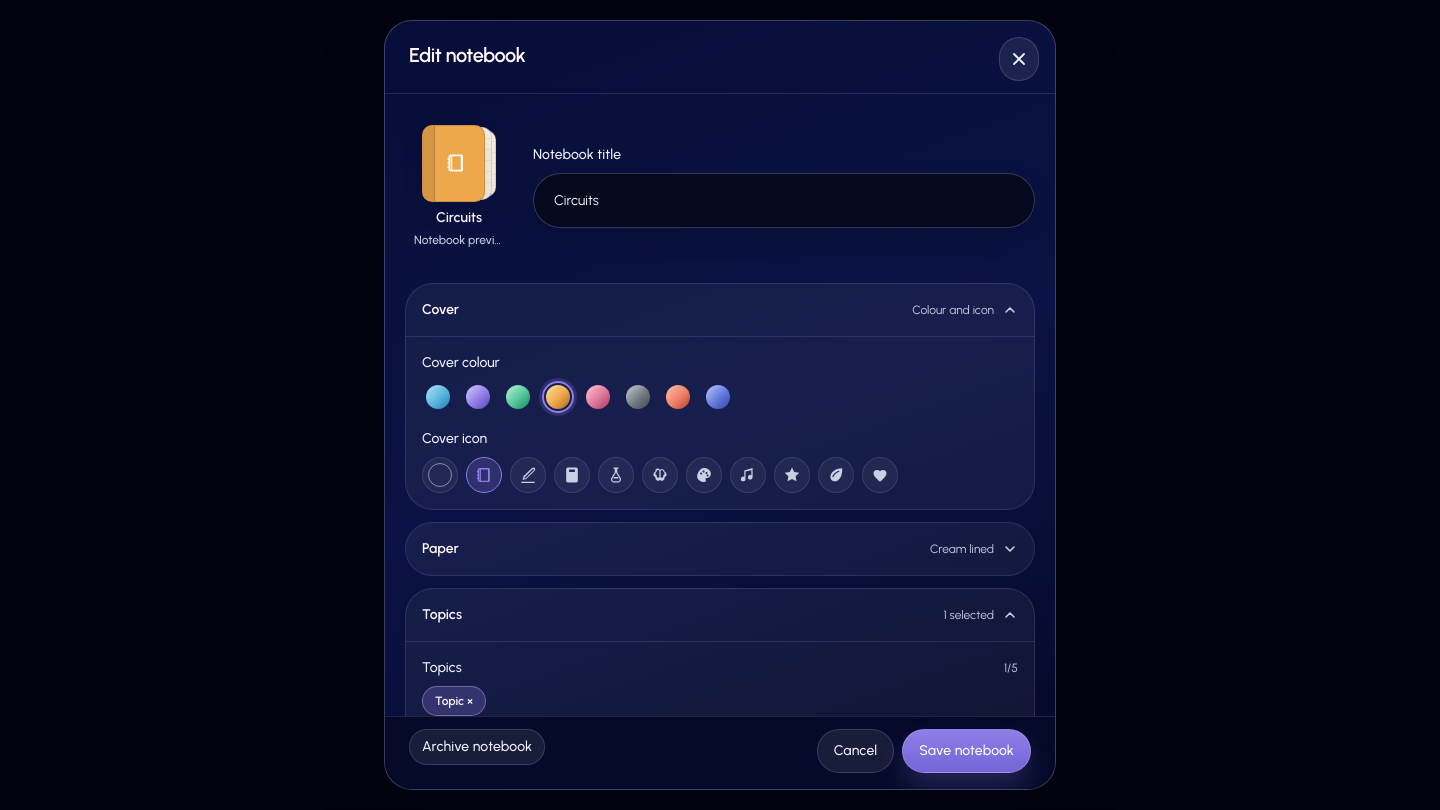
NotebookEditorDialog saving › shows why a save failed and stays open to retry
Click the button "Save notebook" at (967, 751), box [902, 729, 1031, 773]
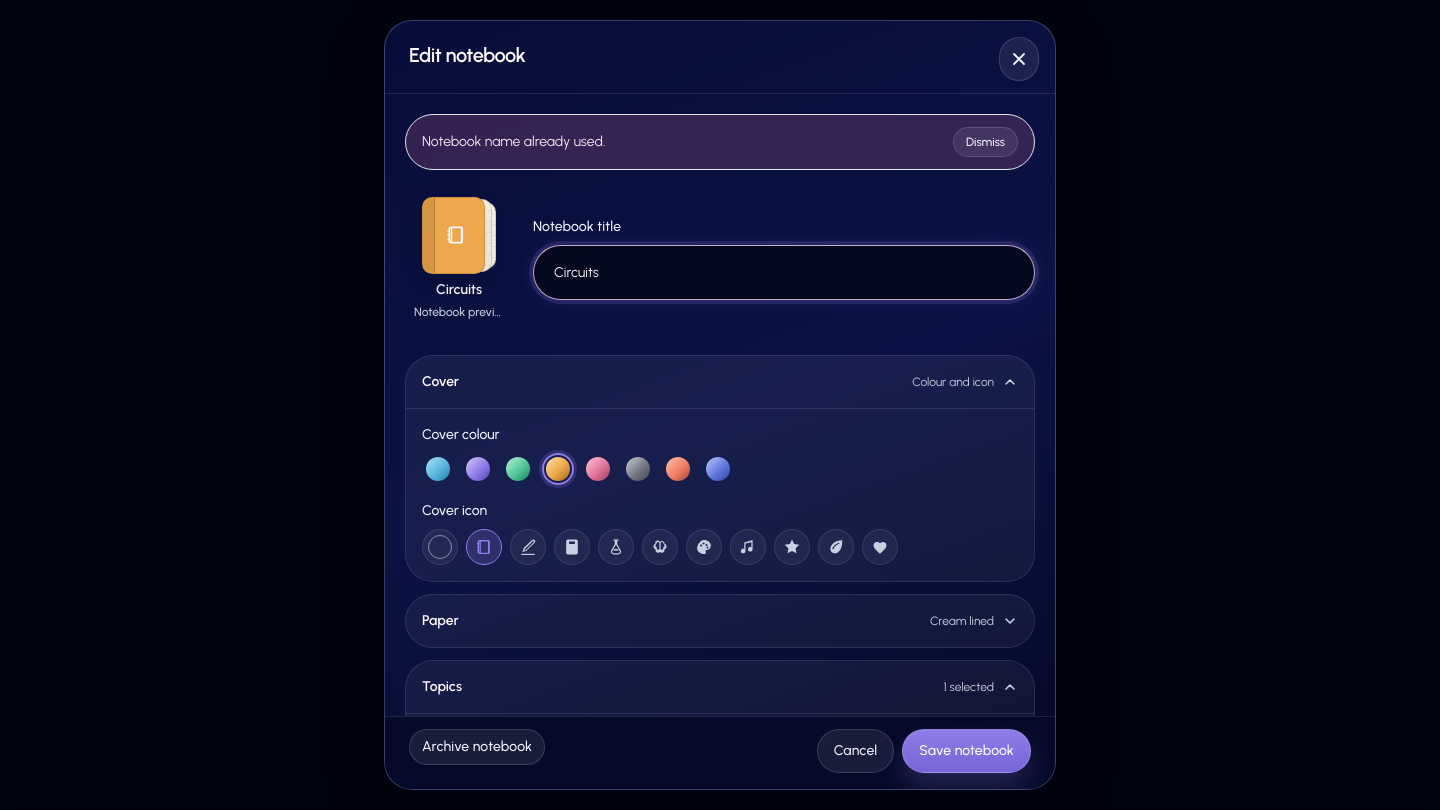
Expected: the dialog is shown, [384, 20, 1056, 790]
Expected: the text "Notebook name already used." is shown, [422, 132, 606, 152]
